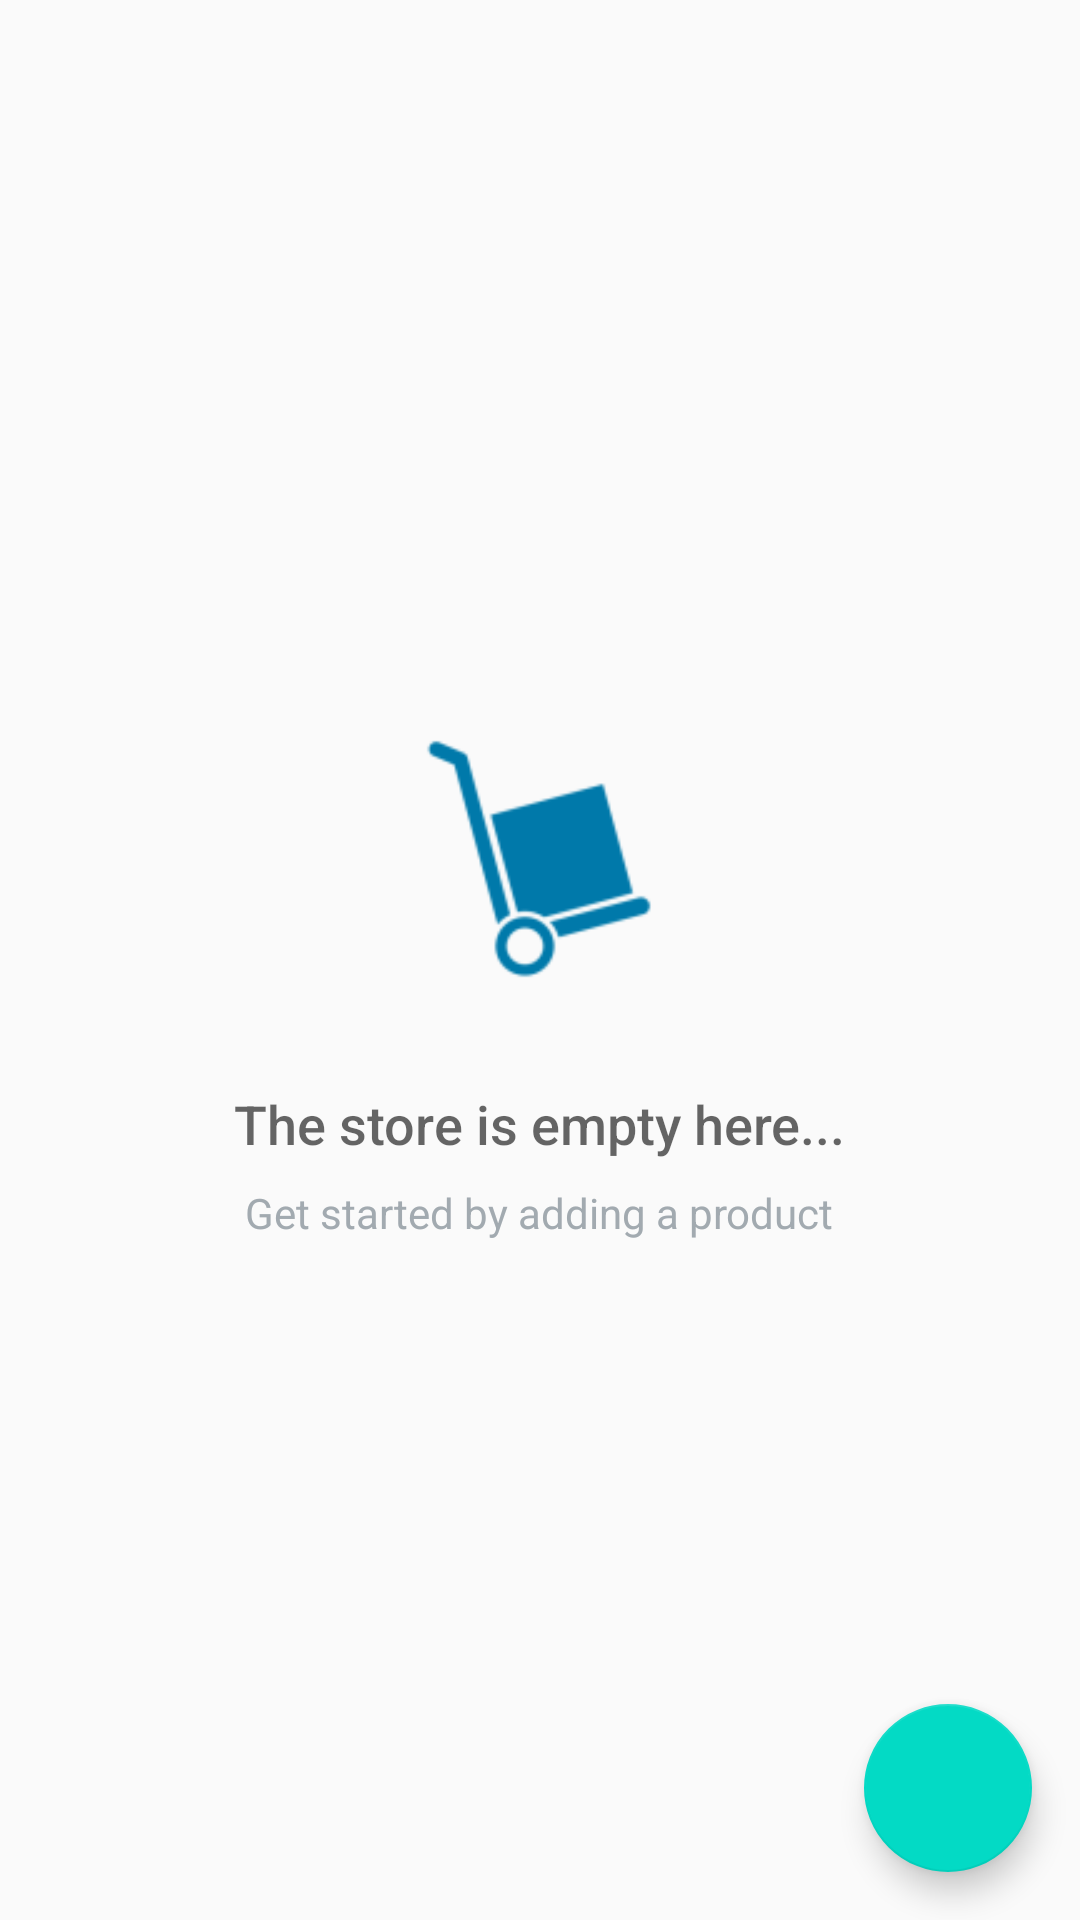

Icon click points for this 1080*1920 phone screenshot, format [x,y]:
imventory: [539,859]
